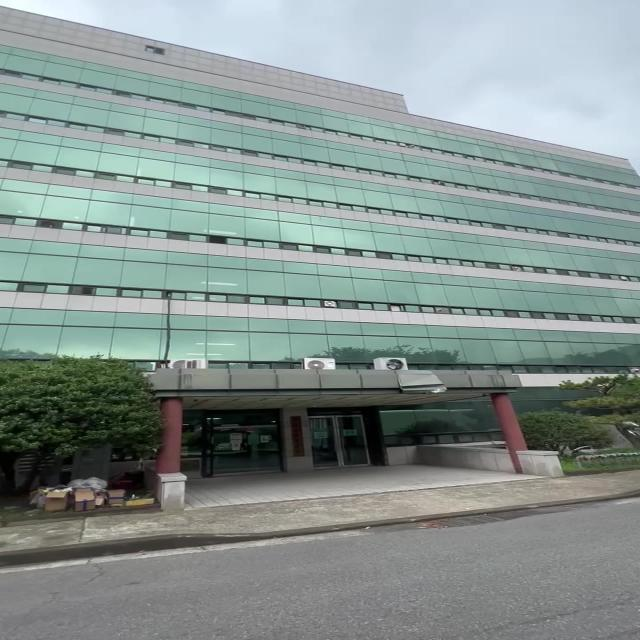building: (28, 46, 466, 361)
